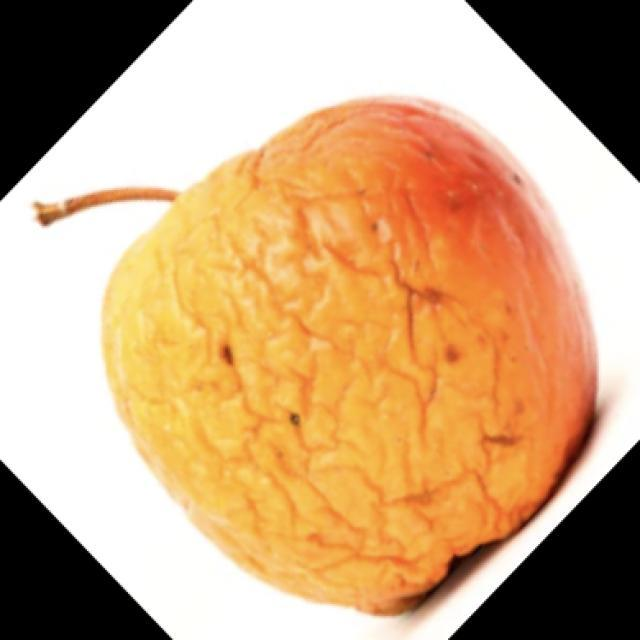Rotten: (80, 98, 623, 640)
